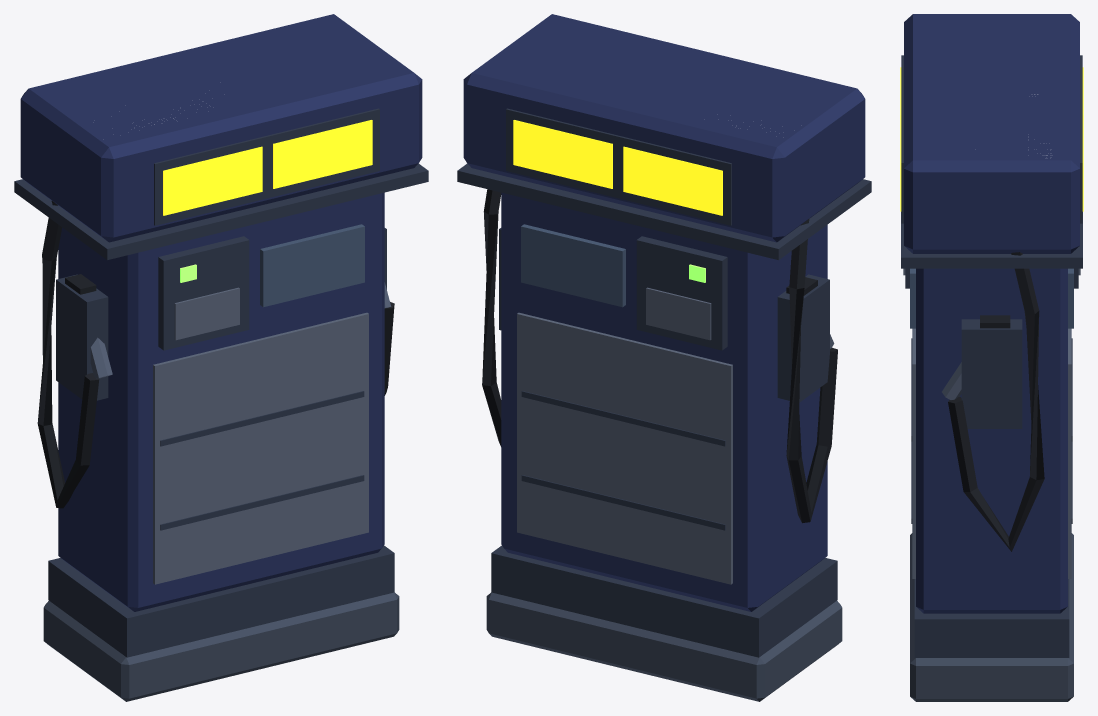
Rendered from hw_gas_pump.glb.
3 views of the same model, side by side, from view 1: azimuth 30°, elevation 25°; view 2: azimuth 150°, elevation 25°; view 3: azimuth 270°, elevation 25° (orthographic).
Visible parts, largest first — view 1: body, panel, trim, plinth, display, hose, grade_strip, nozzle; view 2: body, panel, trim, plinth, display, hose, grade_strip; view 3: body, trim, plinth, hose, panel, grade_strip, display, nozzle.
Boxes of the visible parts, <box> form: body: <box>20,14,422,611</box>; panel: <box>153,287,368,584</box>; trim: <box>14,108,428,657</box>; plinth: <box>43,592,399,701</box>; display: <box>163,120,372,215</box>; hose: <box>37,201,394,508</box>; grade_strip: <box>260,224,364,307</box>; nozzle: <box>90,282,391,378</box>; body: <box>463,14,865,611</box>; panel: <box>517,287,732,584</box>; trim: <box>457,108,871,657</box>; plinth: <box>486,592,842,701</box>; display: <box>513,120,722,215</box>; hose: <box>482,189,837,523</box>; grade_strip: <box>521,224,625,307</box>; body: <box>904,14,1079,613</box>; trim: <box>901,55,1082,657</box>; plinth: <box>910,533,1073,701</box>; hose: <box>948,252,1044,551</box>; panel: <box>903,268,1080,578</box>; grade_strip: <box>910,268,1073,328</box>; display: <box>900,67,1083,211</box>; nozzle: <box>942,362,961,399</box>.
Bounding box in the file's own units: 1.2 × 2 × 0.604.
